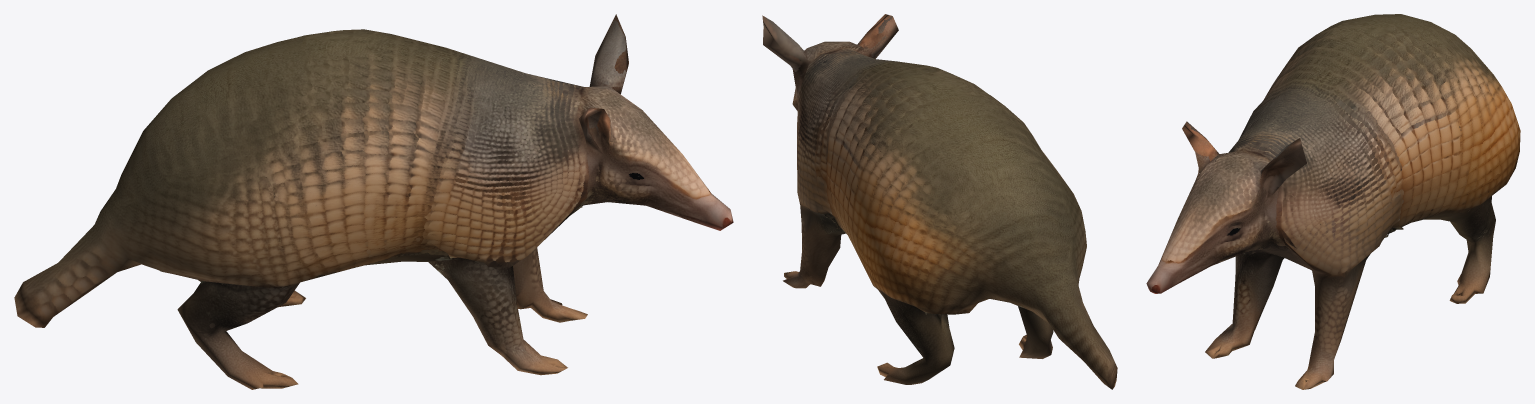
Rendered from armadillo_single_1500.glb.
3 views of the same model, side by side, from view 1: azimuth 30°, elevation 25°; view 2: azimuth 150°, elevation 25°; view 3: azimuth 270°, elevation 25° (orthographic). The views are drawn at different scales.
Size of the model in its own units: 0.8651 by 0.4686 by 0.5815.
1 material, 1 textured.
